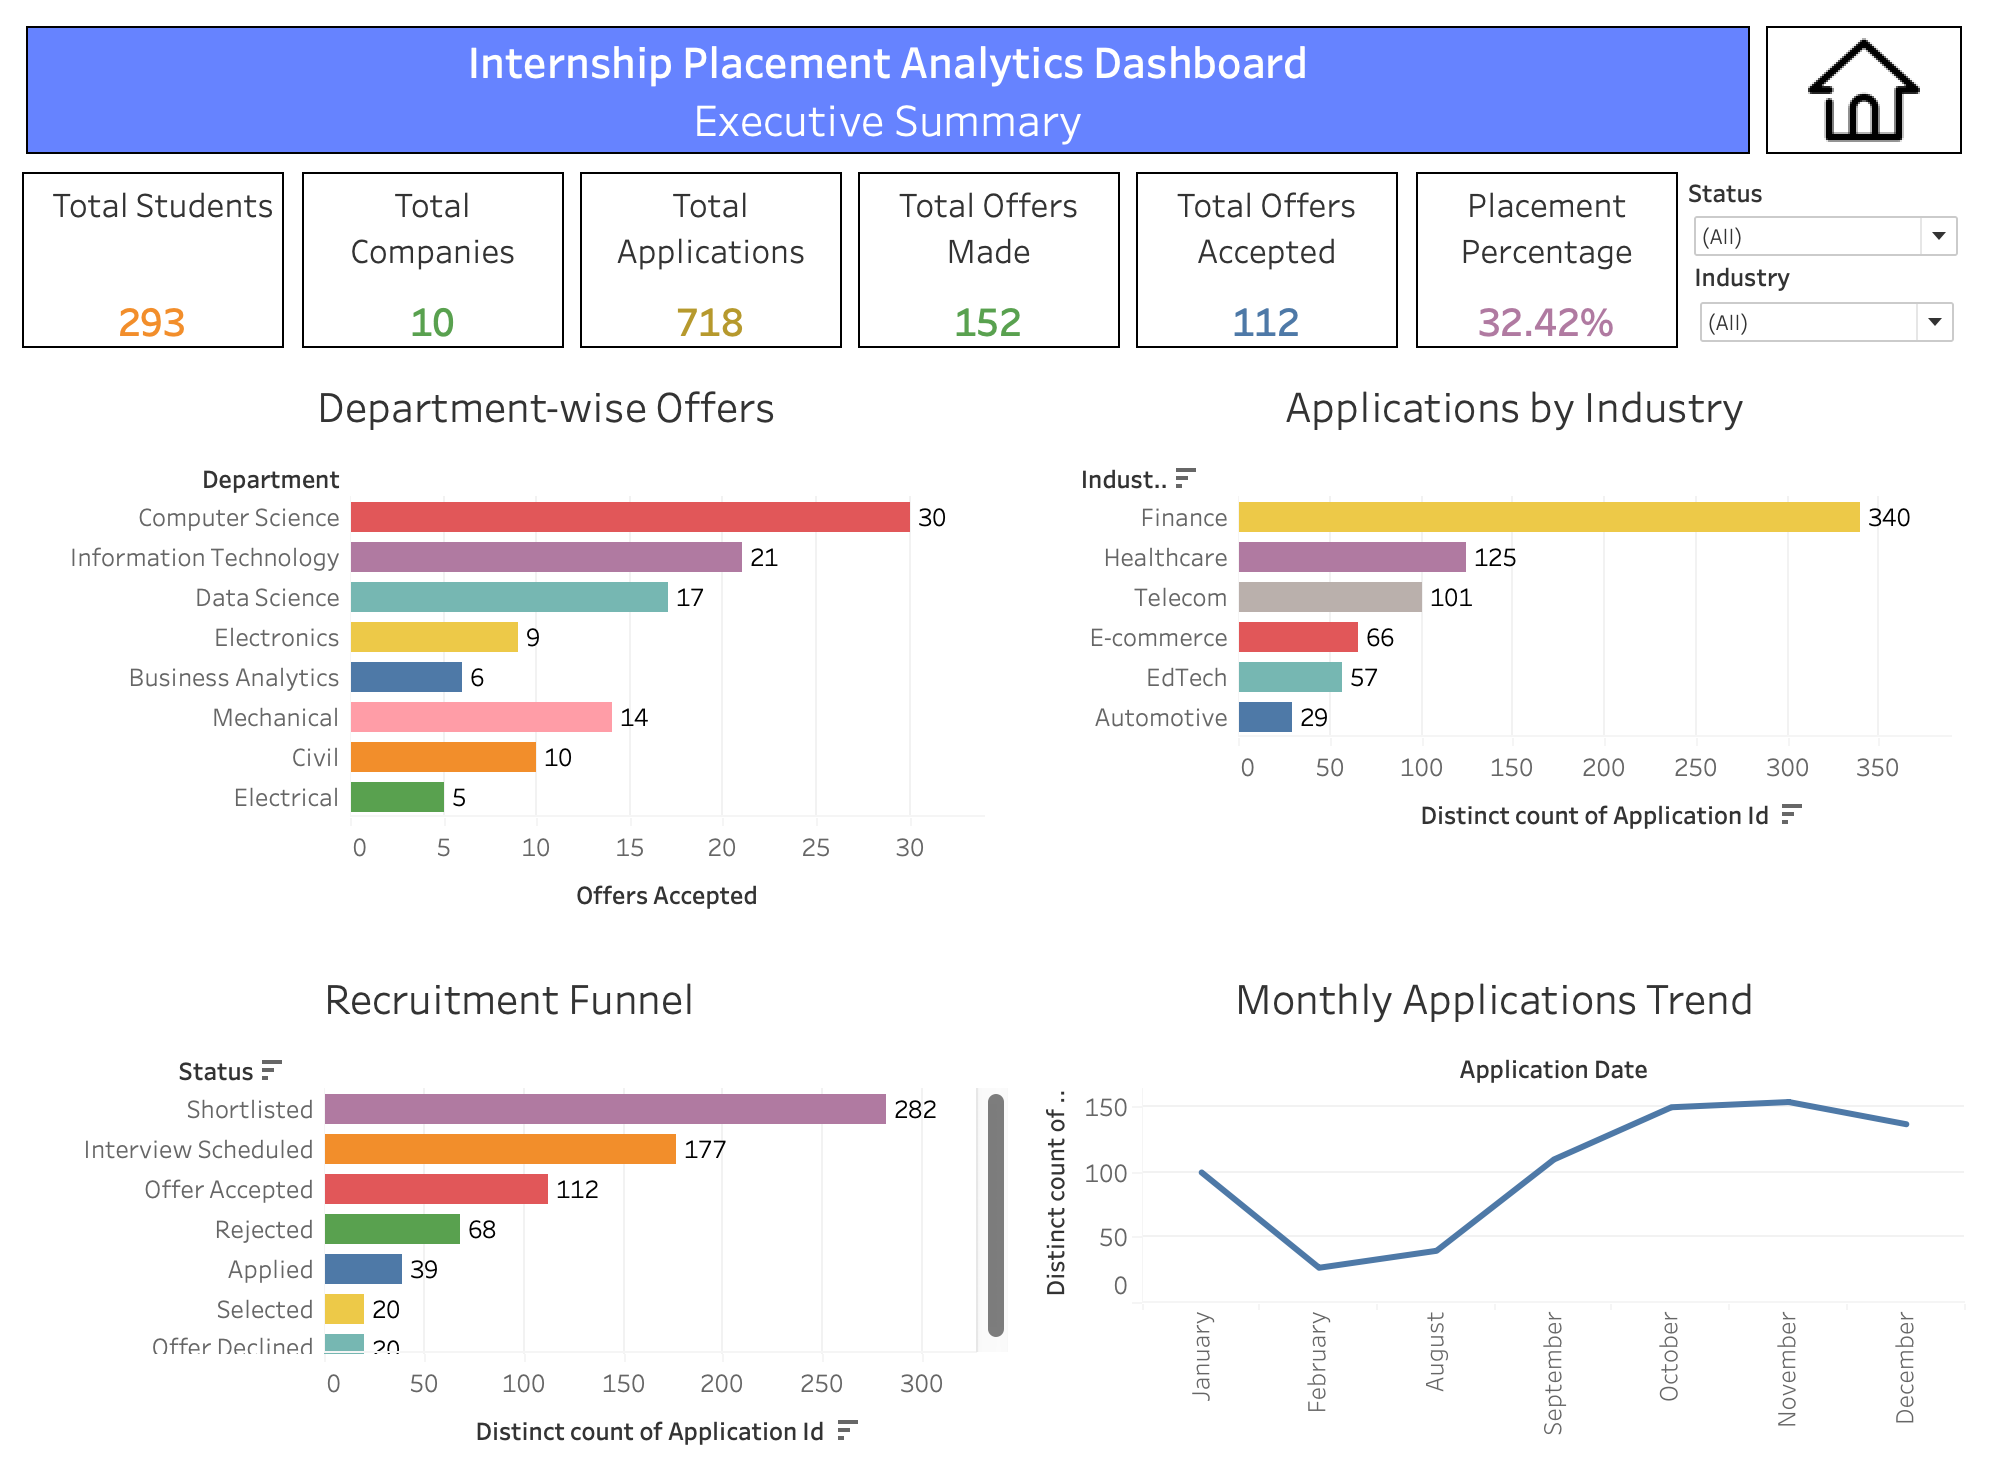

What the dashboard file says about the page in this screenshot:
{"tool":"tableau","page":{"name":"Dashboard 1: Executive Summary Dashboard","canvas":[1024,768],"ordinal":0},"visuals":[{"type":"text","box":[23.6,36.5,862.2,64.3]},{"type":"dashboard-object","box":[894,36.5,98.3,64.3]},{"type":"worksheet","title":"1.1 Total Students","mark":"Automatic","box":[18.4,104.6,139.3,96]},{"type":"worksheet","title":"1.2 Total Companies","mark":"Automatic","box":[157.7,104.6,139.3,96]},{"type":"worksheet","title":"1.4 Total Applications","mark":"Automatic","box":[297,104.6,139.3,96]},{"type":"worksheet","title":"1.5 Total Offers Made","mark":"Automatic","box":[436.2,104.6,139.3,96]},{"type":"worksheet","title":"1.6 Total Offers Accepted","mark":"Automatic","box":[575.5,104.6,139.3,96]},{"type":"worksheet","title":"1.7 Placement Percentage","mark":"Automatic","box":[714.8,104.6,139.3,96]},{"type":"filter","title":"1.13 Recruitment Funnel","param":"[federated.04u47211r3l3801akdy7t0svqm7r].[none:status:nk]","box":[855,111.4,138.2,42.2]},{"type":"filter","title":"1.12 Applications by Industry","param":"[federated.04u47211r3l3801akdy7t0svqm7r].[none:industry:nk]","box":[858.1,152.6,133.1,44.2]},{"type":"worksheet","title":"1.11 Department-wise Offers","mark":"Bar","rows":["department"],"cols":["Calculation_2897160006139905"],"box":[21.5,204.5,524.9,301.4]},{"type":"worksheet","title":"1.12 Applications by Industry","mark":"Automatic","rows":["industry"],"cols":["application_id"],"box":[546.4,204.5,444.9,301.4]},{"type":"worksheet","title":"1.13 Recruitment Funnel","mark":"Bar","rows":["status"],"cols":["application_id"],"box":[28.7,500.2,491.8,258.2]},{"type":"worksheet","title":"1.14 Monthly Applications Trend","mark":"Automatic","rows":["application_id"],"cols":["application_date"],"box":[520.4,500.2,479,258.2]}]}

Visuals, with their boxes in screenshot pixels (x1, y1, x2, y2), scaled from the page's 1024x768 canvas onto the 1998x1472 screenshot:
text: [46, 70, 1728, 193]
dashboard-object: [1744, 70, 1936, 193]
"1.1 Total Students" worksheet: [36, 200, 308, 384]
"1.2 Total Companies" worksheet: [308, 200, 579, 384]
"1.4 Total Applications" worksheet: [579, 200, 851, 384]
"1.5 Total Offers Made" worksheet: [851, 200, 1123, 384]
"1.6 Total Offers Accepted" worksheet: [1123, 200, 1395, 384]
"1.7 Placement Percentage" worksheet: [1395, 200, 1666, 384]
"1.13 Recruitment Funnel" filter: [1668, 214, 1938, 294]
"1.12 Applications by Industry" filter: [1674, 292, 1934, 377]
"1.11 Department-wise Offers" worksheet (Bar marks): [42, 392, 1066, 970]
"1.12 Applications by Industry" worksheet: [1066, 392, 1934, 970]
"1.13 Recruitment Funnel" worksheet (Bar marks): [56, 959, 1016, 1454]
"1.14 Monthly Applications Trend" worksheet: [1015, 959, 1950, 1454]
